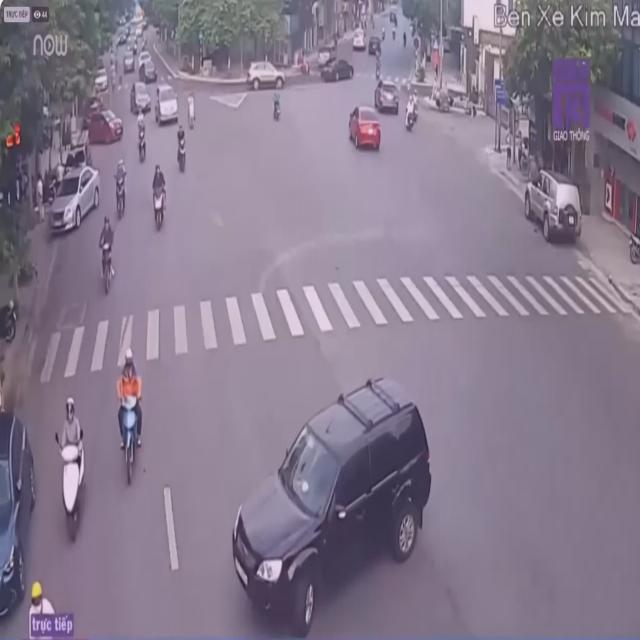car: (228, 380, 434, 640), (1, 392, 34, 624), (526, 172, 582, 244), (48, 164, 101, 235), (348, 104, 382, 152), (249, 60, 283, 90), (155, 82, 177, 121), (374, 79, 398, 114)
motorbike: (113, 349, 149, 485), (56, 400, 88, 542), (21, 583, 75, 640), (96, 212, 118, 292), (150, 162, 169, 232), (114, 159, 128, 216), (175, 120, 189, 174), (136, 118, 148, 163), (405, 93, 414, 133)
